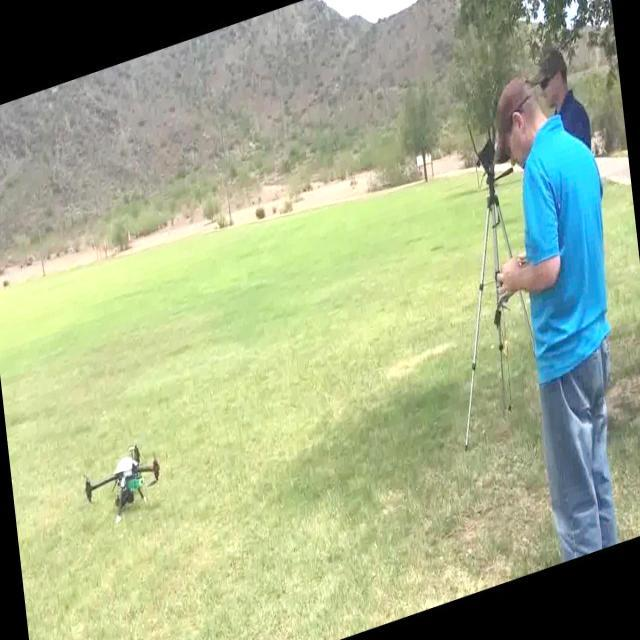drone: (80, 437, 166, 527)
